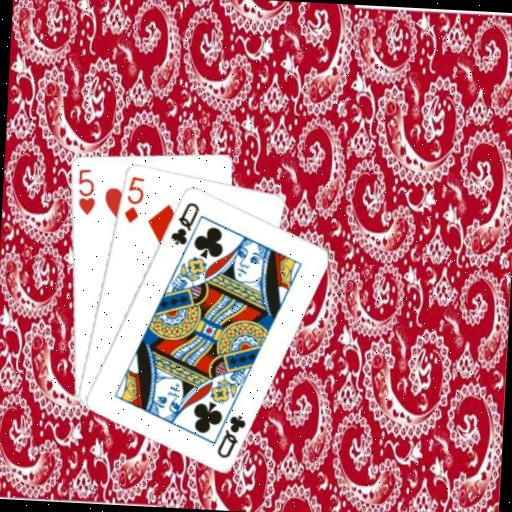5D: (121, 173, 147, 225)
5H: (73, 165, 98, 217)
QC: (167, 197, 202, 248), (213, 411, 248, 461)
